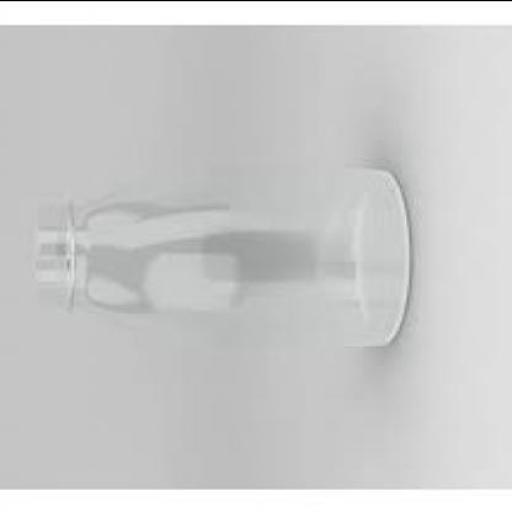glass: (34, 162, 408, 344)
